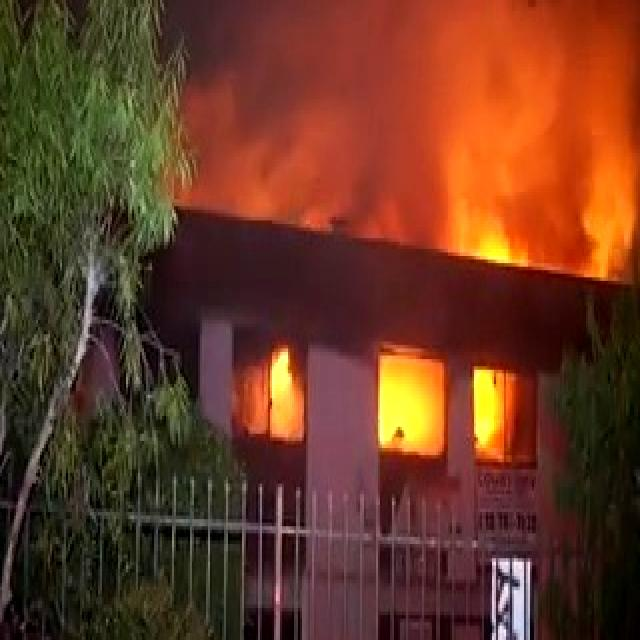fire: (384, 358, 432, 438)
smoke: (188, 0, 634, 124)
